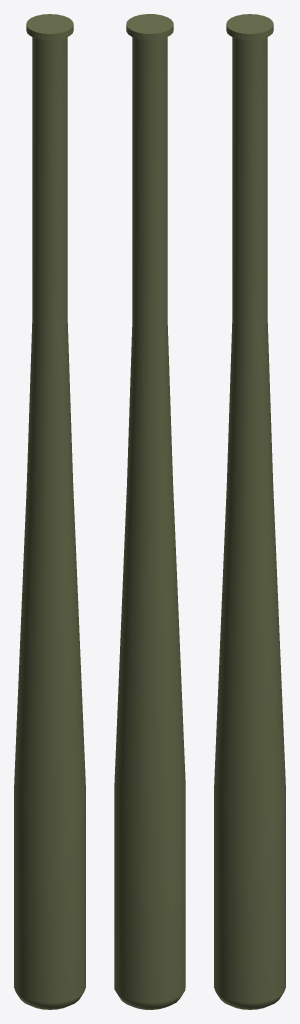
Rendered from bat.fbx.
3 views of the same model, side by side, from view 1: azimuth 90°, elevation 25°; view 2: azimuth 150°, elevation 25°; view 3: azimuth 270°, elevation 25° (orthographic).
Visible parts, largest first — view 1: bat; view 2: bat; view 3: bat.
Part boxes in pixels (<box>): bat: <box>14,14,85,1009</box>; bat: <box>114,14,185,1009</box>; bat: <box>214,14,285,1009</box>.
Size of the model in its own units: 0.2004 by 3.01 by 0.2004.
